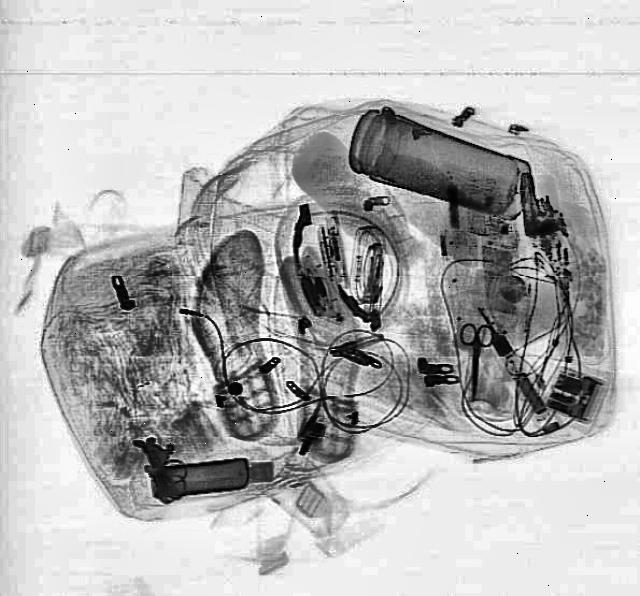Scissors: (454, 322, 494, 398)
